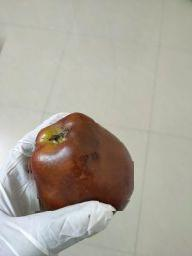Apple Rotten: (26, 112, 134, 211)
